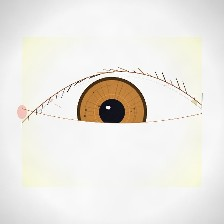pterygium_lesion: (149, 91, 202, 133)
